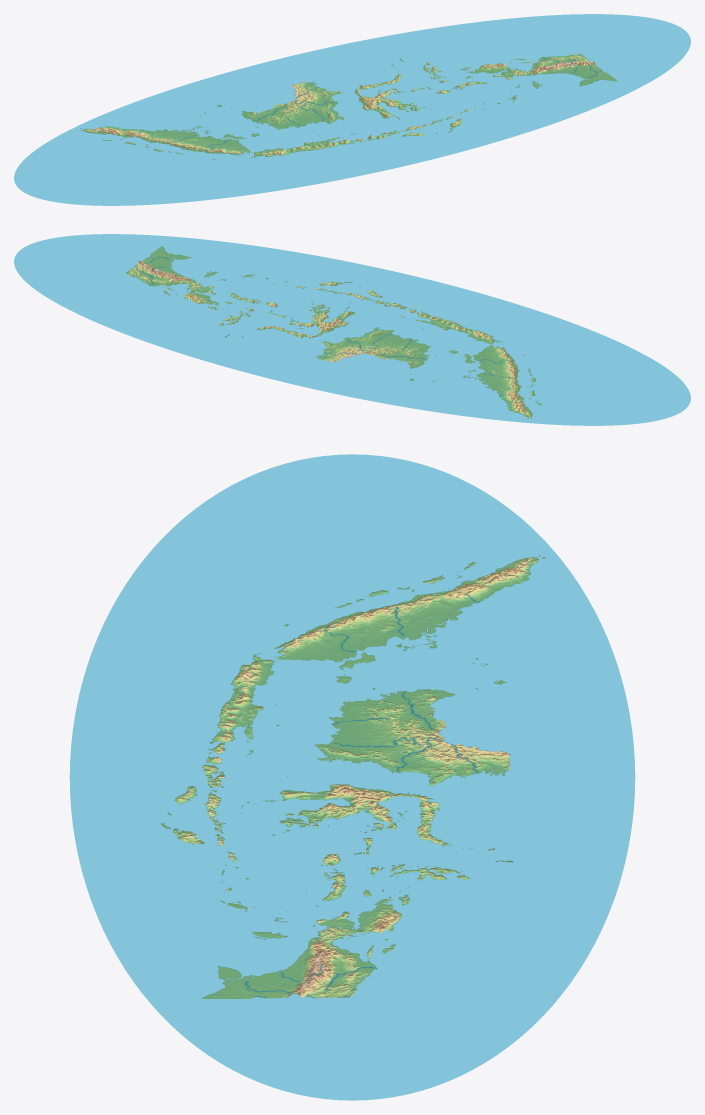
File: IDN-terrain.glb
The picture shows the model from 3 angles, top to bottom: view 1: azimuth 30°, elevation 25°; view 2: azimuth 150°, elevation 25°; view 3: azimuth 270°, elevation 25°; orthographic projection. The views are drawn at different scales.
Visible parts, largest first — view 1: Relevo com hidrografia; view 2: Relevo com hidrografia; view 3: Relevo com hidrografia.
Part boxes in pixels (bbox=[...]): Relevo com hidrografia: bbox=[14, 14, 690, 205]; Relevo com hidrografia: bbox=[14, 234, 690, 425]; Relevo com hidrografia: bbox=[69, 454, 635, 1100].
Bounding box in the file's own units: 2.34 × 0.0146 × 0.8657.
Materials: 2 (1 with a texture image).
